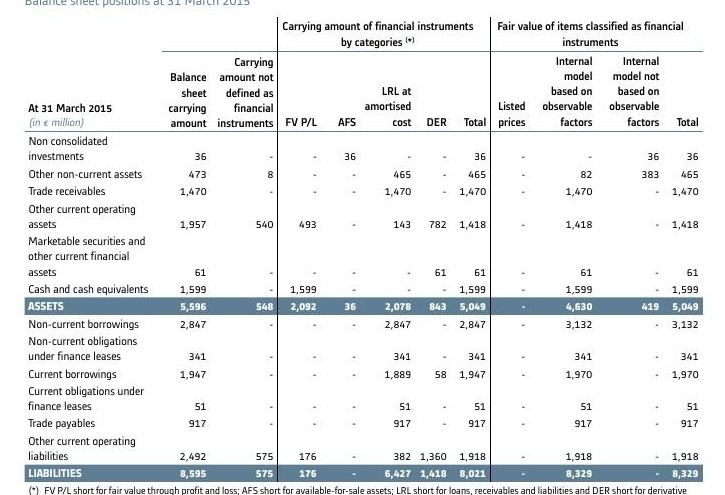table: (0, 0, 725, 495)
